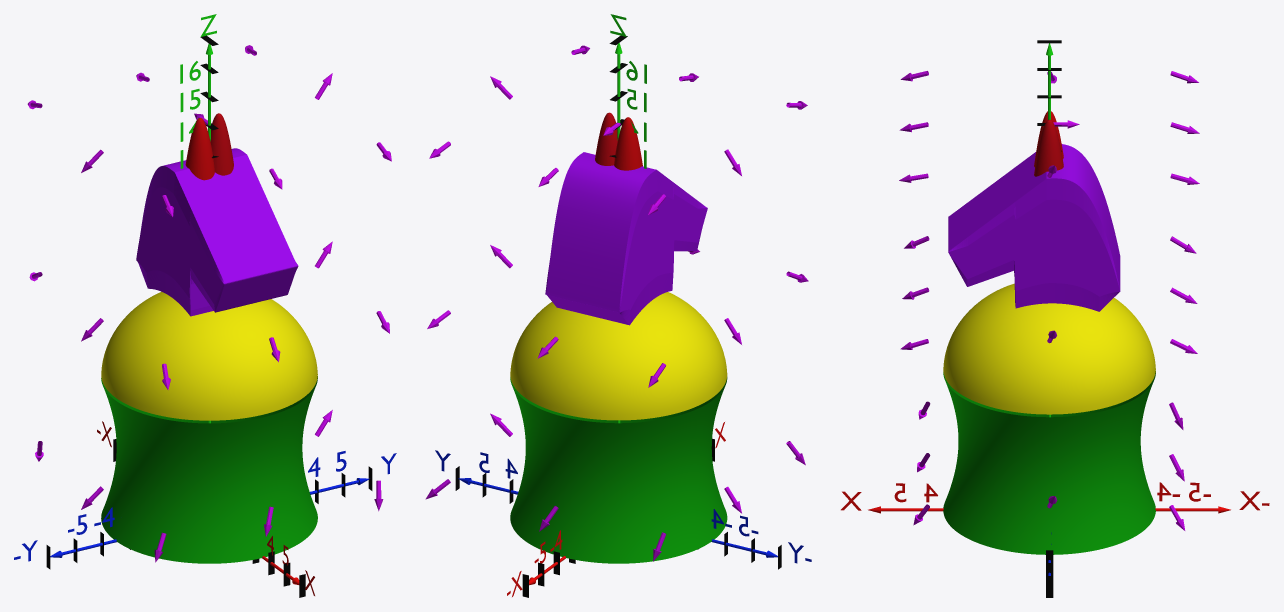
The model's file is modelocaballo3dconejes.glb.
3 views of the same model, side by side, from view 1: azimuth 30°, elevation 25°; view 2: azimuth 150°, elevation 25°; view 3: azimuth 270°, elevation 25° (orthographic). The views are drawn at different scales.
Visible parts, largest first — view 1: hiperboloide, elipsoide, cabeza, flechas, marcas, orejaL, orejaR, ejeX; view 2: hiperboloide, elipsoide, cabeza, flechas, marcas, orejaL, orejaR, ejeX; view 3: hiperboloide, elipsoide, cabeza, flechas, orejaR, marcas, ejeY.
Part boxes in pixels (<box>): hiperboloide: <box>101,376,317,563</box>; elipsoide: <box>101,291,317,420</box>; cabeza: <box>136,148,298,316</box>; flechas: <box>27,45,391,562</box>; marcas: <box>46,35,372,597</box>; orejaL: <box>185,118,214,180</box>; orejaR: <box>210,113,233,175</box>; ejeX: <box>50,478,369,557</box>; hiperboloide: <box>510,377,727,563</box>; elipsoide: <box>510,292,727,420</box>; cabeza: <box>545,152,707,325</box>; flechas: <box>425,45,808,561</box>; marcas: <box>455,35,781,597</box>; orejaL: <box>614,117,642,170</box>; orejaR: <box>595,112,617,165</box>; ejeX: <box>458,478,777,557</box>; hiperboloide: <box>943,371,1155,554</box>; elipsoide: <box>943,283,1155,414</box>; cabeza: <box>948,144,1120,311</box>; flechas: <box>899,71,1199,530</box>; orejaR: <box>1034,119,1063,176</box>; marcas: <box>1037,40,1061,597</box>; ejeY: <box>868,506,1230,513</box>.
Bounding box in the file's own units: 14.15 × 18.27 × 14.12.
